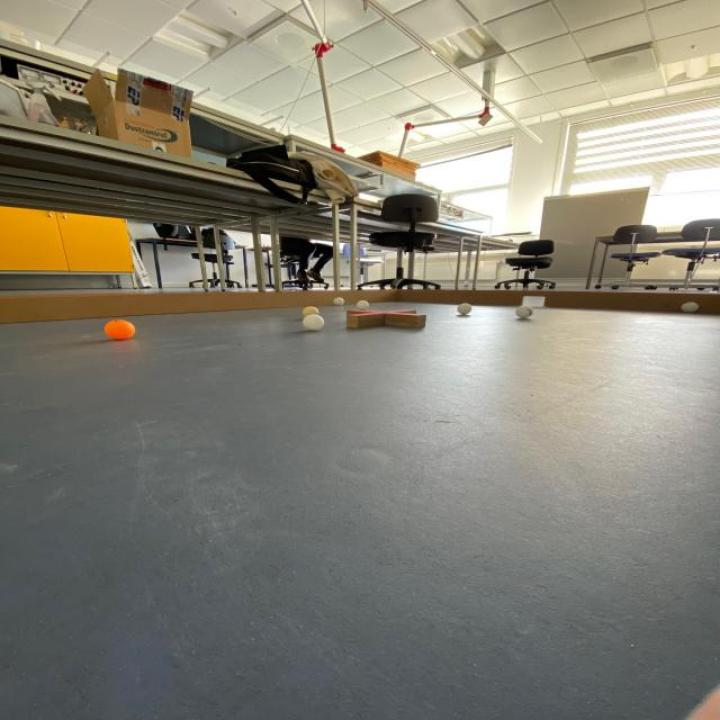orange: (104, 320, 136, 340)
white: (303, 314, 325, 332), (516, 306, 534, 318), (302, 306, 320, 317), (681, 302, 699, 313), (457, 304, 472, 314), (356, 300, 370, 310), (333, 298, 344, 306)
